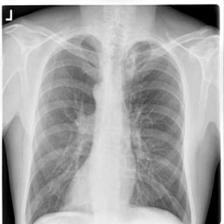tuberculosis: (21, 22, 198, 224)
